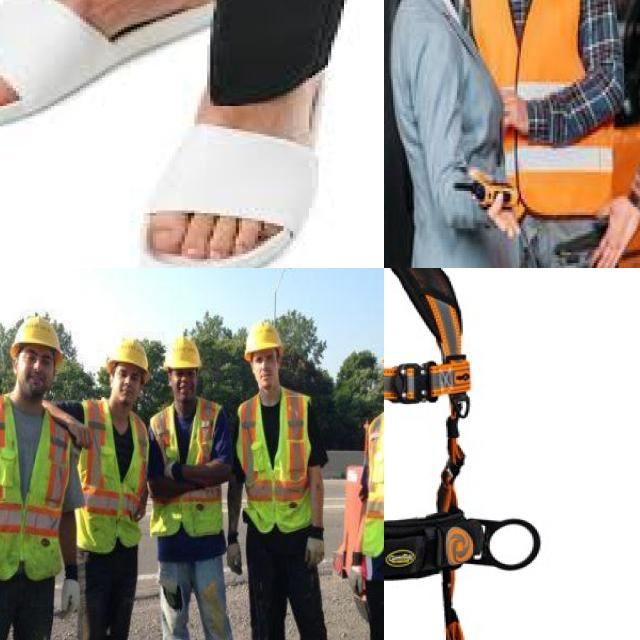Harness: (384, 268, 552, 640)
Sandals: (141, 27, 322, 268)
face_nomask: (11, 339, 58, 397), (112, 360, 140, 411), (248, 347, 282, 387), (168, 366, 197, 401)
hand_glove: (54, 575, 87, 627), (346, 550, 370, 604), (307, 524, 327, 574), (223, 535, 245, 576)
hand_noglove: (468, 159, 526, 242), (587, 199, 640, 268), (498, 84, 530, 143)
head_helmet: (9, 318, 65, 352), (165, 338, 205, 372), (244, 320, 283, 354), (110, 336, 149, 370)
person: (471, 0, 624, 268), (235, 317, 334, 640), (387, 0, 505, 268), (156, 327, 238, 640), (0, 316, 65, 640), (84, 334, 151, 640), (345, 320, 384, 640)
vest: (466, 0, 612, 209), (0, 407, 66, 584), (155, 398, 228, 540), (242, 390, 314, 531), (79, 407, 151, 548), (366, 401, 384, 569)
